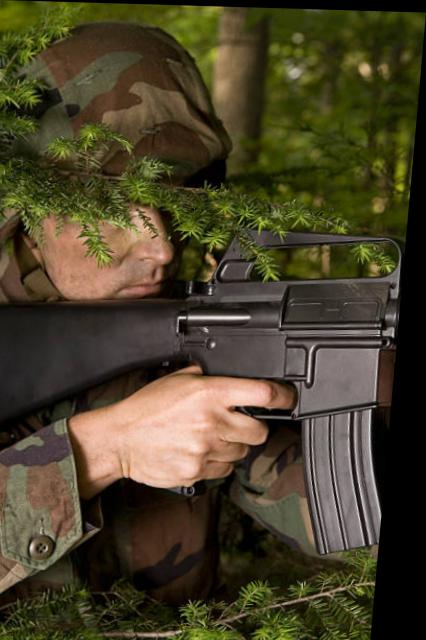other: (0, 20, 313, 602)
